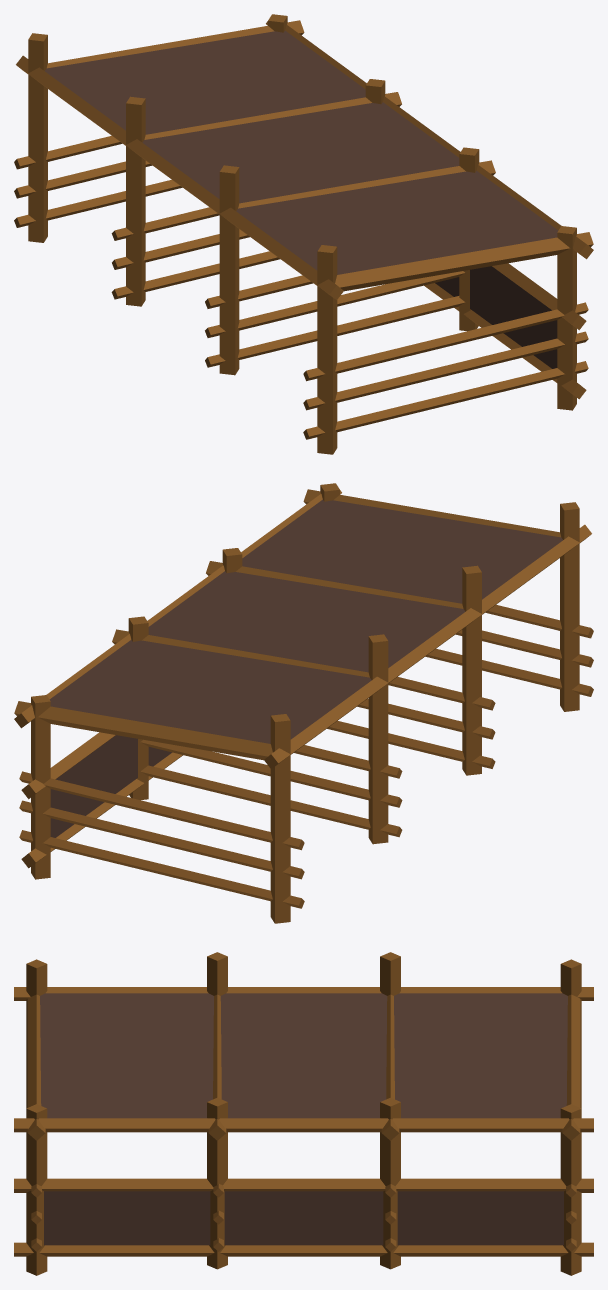
The model's file is Stable.fbx.
3 views of the same model, one above another, from view 1: azimuth 30°, elevation 25°; view 2: azimuth 150°, elevation 25°; view 3: azimuth 270°, elevation 25° (orthographic). The views are drawn at different scales.
Parts seen in each view (by area): view 1: Куб; view 2: Куб; view 3: Куб.
Part boxes in pixels (x1,y1,x2,y2): Куб: (14,14,593,454); Куб: (14,483,593,923); Куб: (14,952,593,1275).
Bounding box in the file's own units: 311 × 234 × 596.
